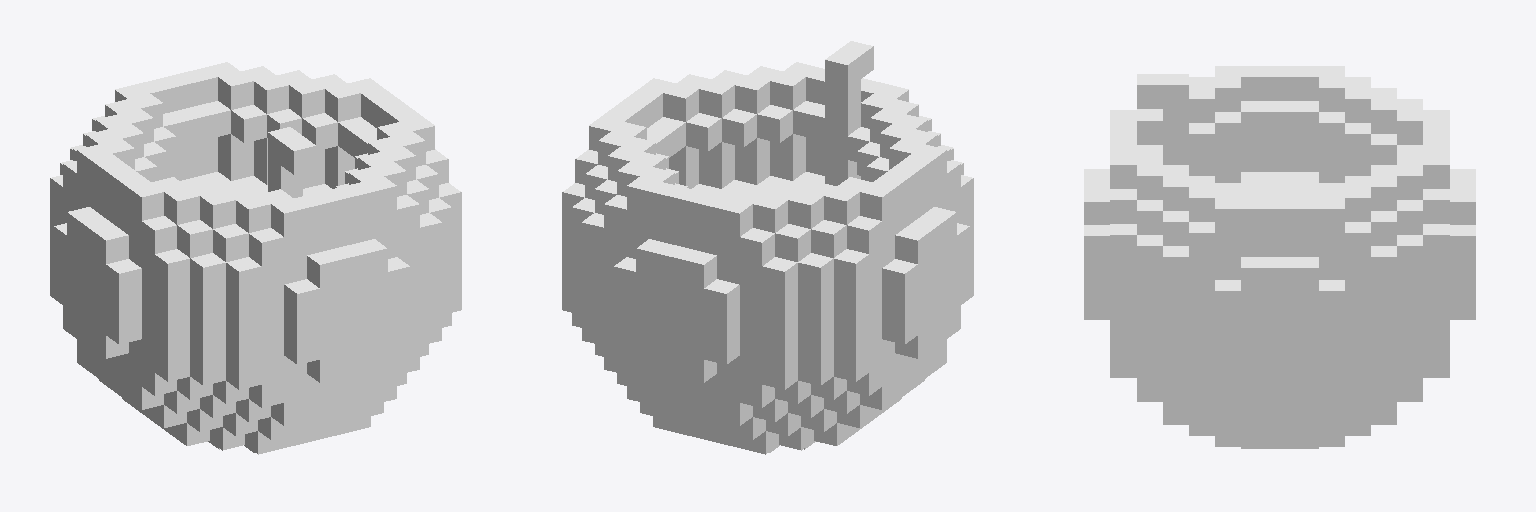
Rendered from obj.coconut2.obj.
3 renders of one model, left to right at view 1: azimuth 30°, elevation 25°; view 2: azimuth 150°, elevation 25°; view 3: azimuth 270°, elevation 25°, orthographic.
Parts seen in each view (by area): view 1: object 1; view 2: object 1; view 3: object 1.
Part boxes in pixels (left/top/right/bottom): object 1: left=50, top=62, right=461, bottom=454; object 1: left=562, top=41, right=973, bottom=454; object 1: left=1084, top=66, right=1475, bottom=448.
Size of the model in its own units: 1.5 by 1.4 by 1.5.